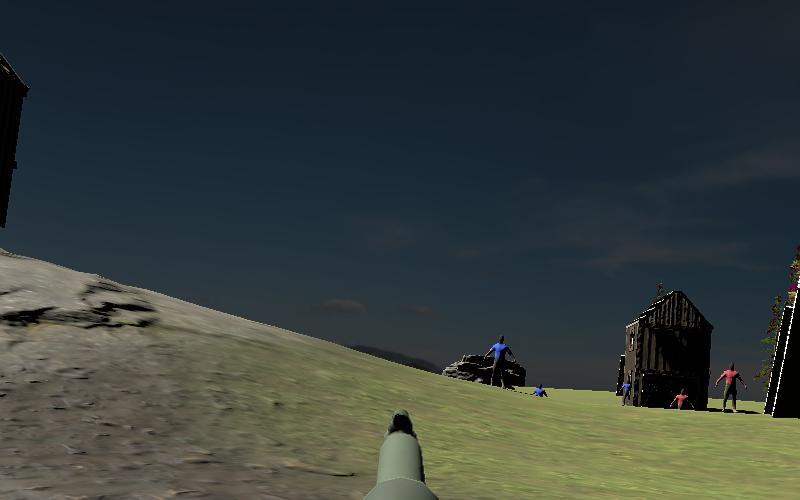House: (620, 288, 714, 409)
Human: (483, 334, 515, 391), (715, 361, 748, 415), (619, 377, 632, 408)
